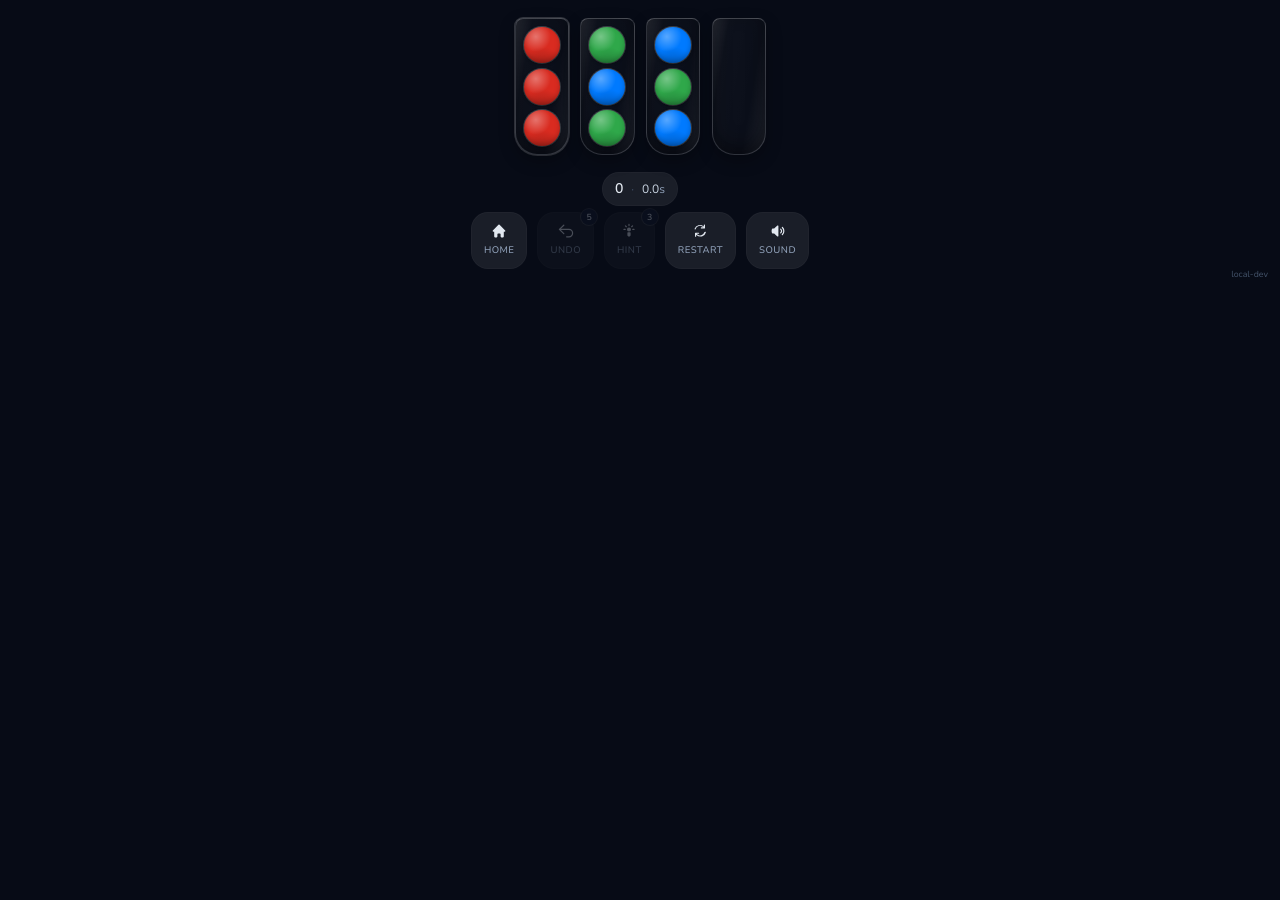
Test case: sound menu › opens from the Sound button with a switch and a volume control
Click the button with aria-label "sound settings": click(778, 240) [747, 213, 808, 268]
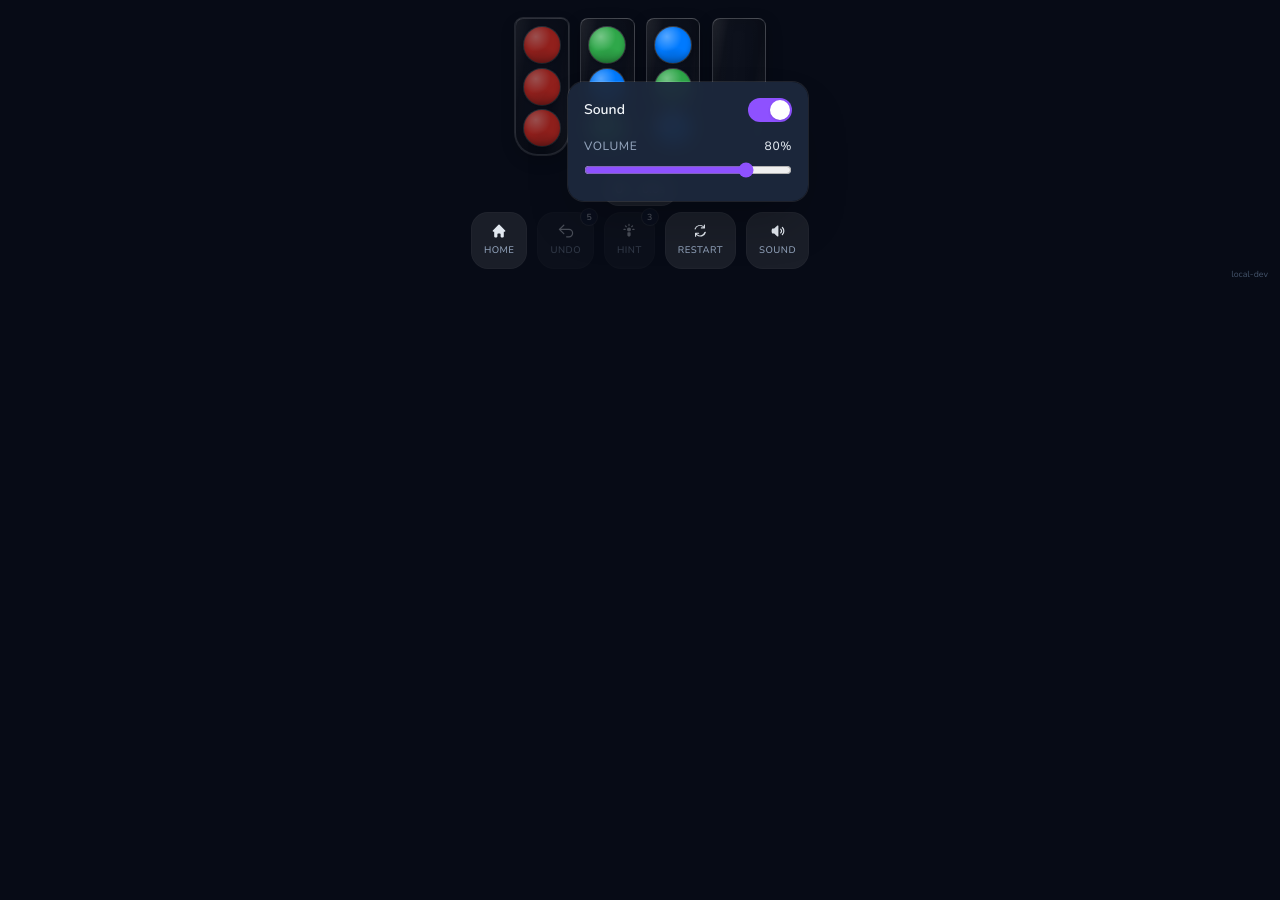
Check: the slider labelled "Volume" holds "80", box [584, 162, 792, 178]
Check: the text "80%" is shown, box [765, 138, 792, 154]
